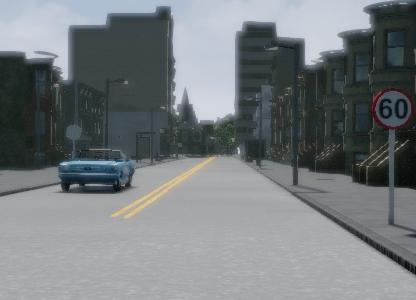Speed_60: (371, 86, 414, 129)
